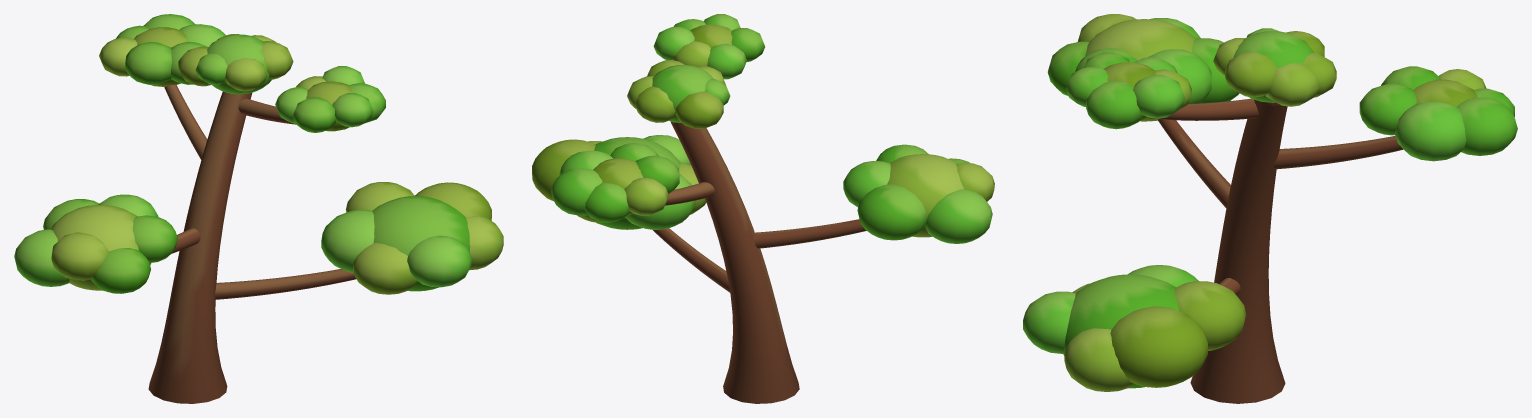
The model's file is cloud-tree-1.obj.
The picture shows the model from 3 angles, left to right: view 1: azimuth 30°, elevation 25°; view 2: azimuth 150°, elevation 25°; view 3: azimuth 270°, elevation 25°; orthographic projection. The views are drawn at different scales.
Visible parts, largest first — view 1: tree; view 2: tree; view 3: tree.
Boxes of the visible parts, x1,y1,x2,y2 form: tree: (14, 14, 503, 403); tree: (532, 14, 994, 403); tree: (1023, 14, 1517, 403).
Size of the model in its own units: 457 by 303 by 353.
